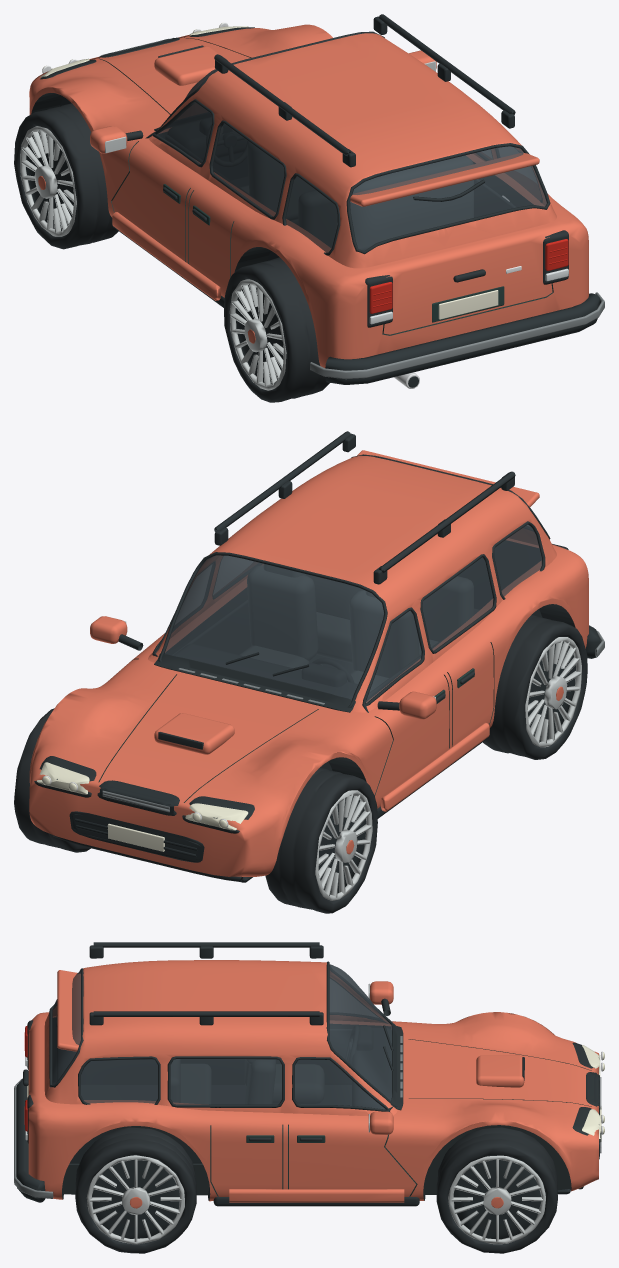
Rendered from nagare_lod2.fbx.
3 renders of one model, top to bottom at view 1: azimuth 30°, elevation 25°; view 2: azimuth 150°, elevation 25°; view 3: azimuth 270°, elevation 25°, orthographic. The views are drawn at different scales.
Parts seen in each view (by area): view 1: Body, Wheel_FL_Mesh, Wheel_RL_Mesh; view 2: Body, Wheel_FL_Mesh, Wheel_RL_Mesh, Wheel_FR_Mesh; view 3: Body, Wheel_RR_Mesh, Wheel_FR_Mesh.
Boxes of the visible parts, left/top/right/bottom form: Body: left=29, top=14, right=604, bottom=388; Wheel_FL_Mesh: left=14, top=103, right=118, bottom=249; Wheel_RL_Mesh: left=224, top=257, right=329, bottom=402; Body: left=29, top=431, right=604, bottom=882; Wheel_FL_Mesh: left=265, top=768, right=377, bottom=913; Wheel_RL_Mesh: left=483, top=614, right=587, bottom=759; Wheel_FR_Mesh: left=14, top=708, right=90, bottom=852; Body: left=14, top=942, right=604, bottom=1206; Wheel_RR_Mesh: left=75, top=1127, right=196, bottom=1253; Wheel_FR_Mesh: left=436, top=1127, right=557, bottom=1253.
Bounding box in the file's own units: 238 × 169 × 419.
